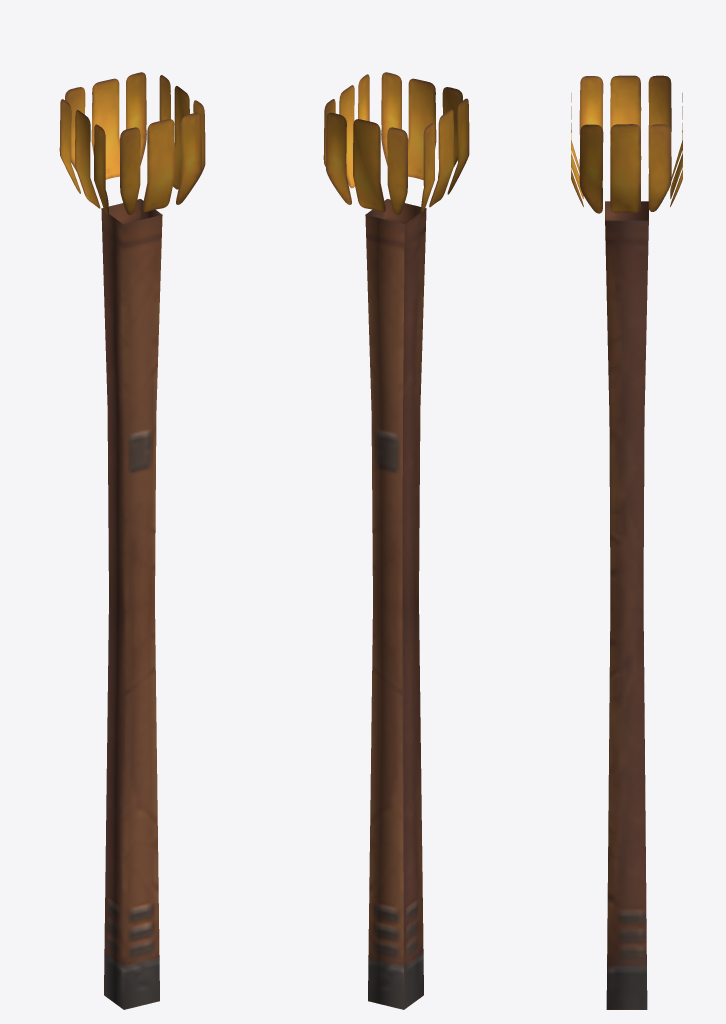
3 views of the same model, side by side, from view 1: azimuth 30°, elevation 25°; view 2: azimuth 150°, elevation 25°; view 3: azimuth 270°, elevation 25° (orthographic).
Visible parts, largest first — view 1: gk_wj012_07; view 2: gk_wj012_07; view 3: gk_wj012_07.
Part boxes in pixels (box(x1,y1,x2,y2)): gk_wj012_07: box(59, 72, 205, 1009); gk_wj012_07: box(323, 72, 469, 1009); gk_wj012_07: box(571, 75, 682, 1009).
Size of the model in its own units: 57.34 by 354 by 55.28.
